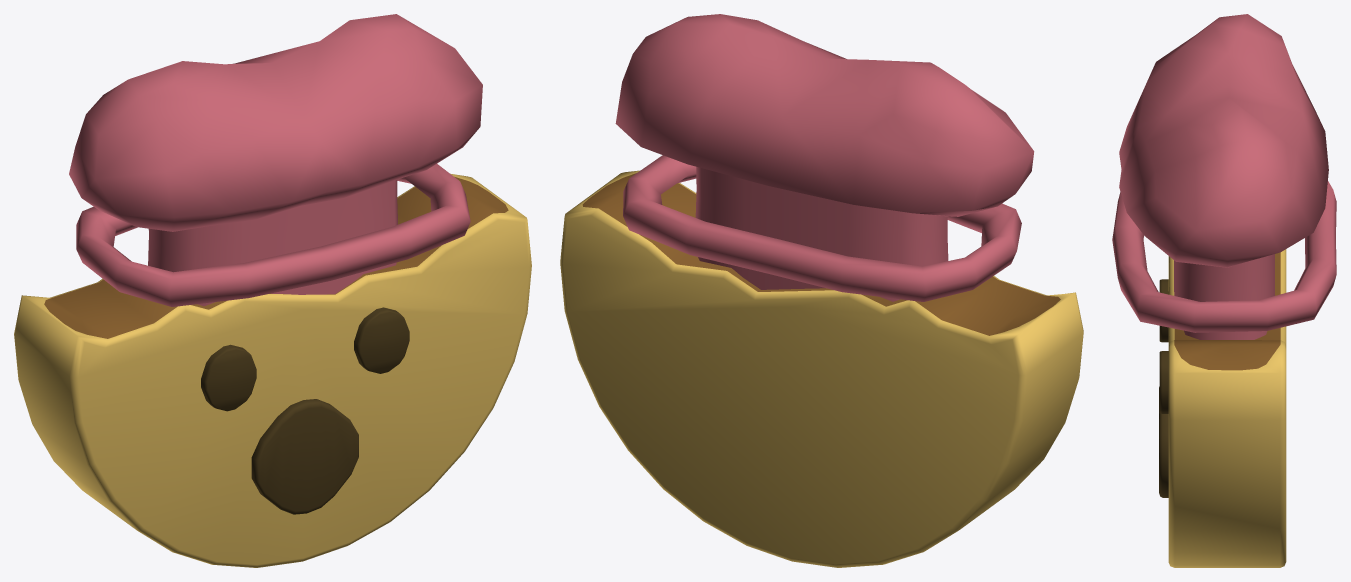
File: brain.fbx
3 views of the same model, side by side, from view 1: azimuth 30°, elevation 25°; view 2: azimuth 150°, elevation 25°; view 3: azimuth 270°, elevation 25° (orthographic). The views are drawn at different scales.
Parts seen in each view (by area): view 1: Cylinder.207; view 2: Cylinder.207; view 3: Cylinder.207.
Part boxes in pixels (x1,y1,x2,y2): Cylinder.207: (14, 14, 531, 567); Cylinder.207: (560, 14, 1083, 567); Cylinder.207: (1112, 14, 1336, 567).
Bounding box in the file's own units: 86.86 × 89.14 × 38.1.
